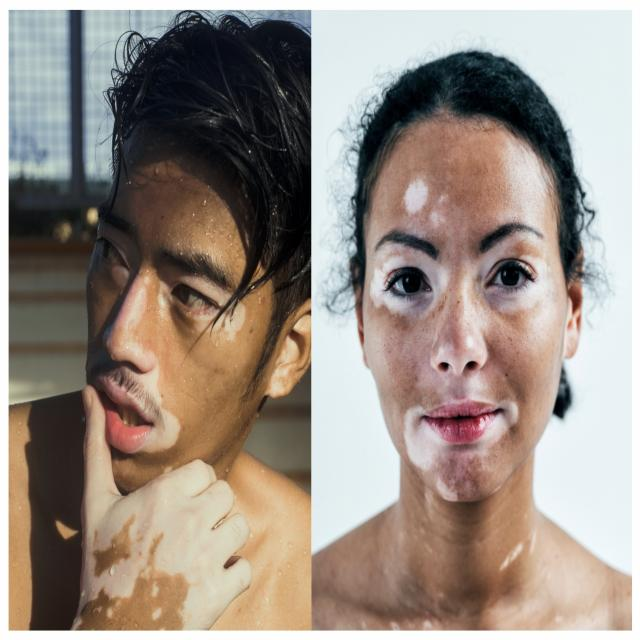vitiligo: (359, 175, 553, 596), (78, 202, 246, 633)
